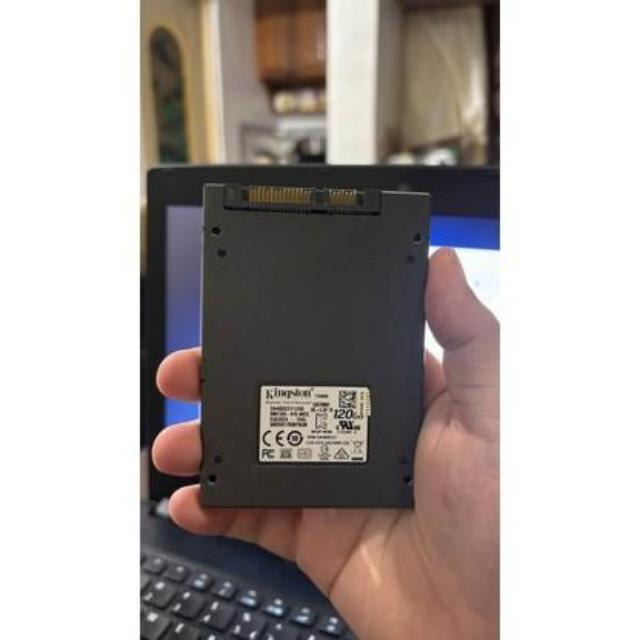DISK: (193, 175, 438, 520)
